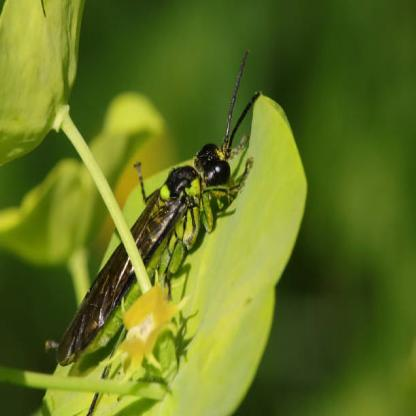sawfly: (49, 48, 263, 372)
